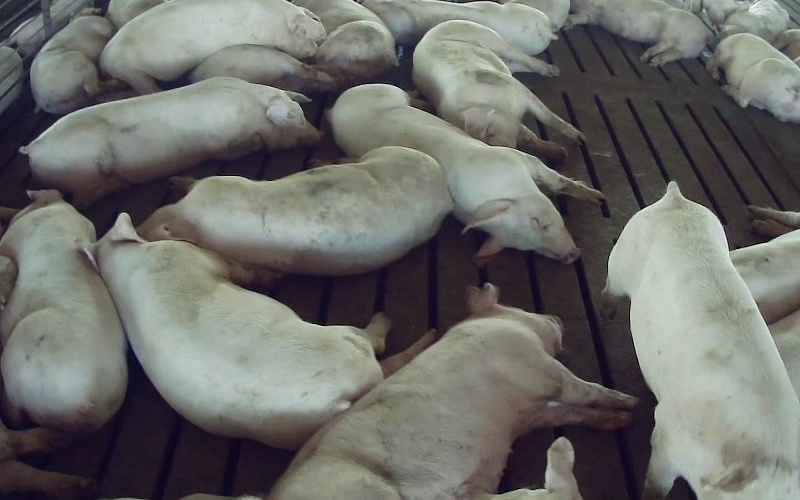pig: (96, 213, 436, 448), (272, 284, 636, 499), (604, 182, 799, 499), (20, 77, 319, 205), (0, 191, 126, 433), (413, 20, 583, 159), (100, 0, 325, 93), (30, 8, 134, 113), (363, 0, 556, 55), (565, 0, 711, 65), (707, 33, 799, 122)
